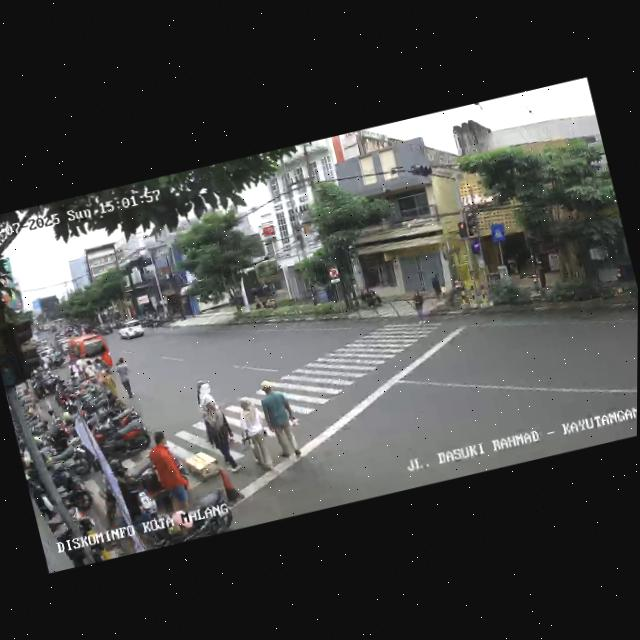car: (64, 330, 113, 376), (116, 317, 146, 344)
person: (143, 427, 193, 517), (255, 377, 304, 467), (235, 393, 279, 475), (199, 398, 240, 477), (191, 374, 221, 416), (113, 356, 136, 398), (409, 288, 430, 327), (97, 367, 118, 399)
